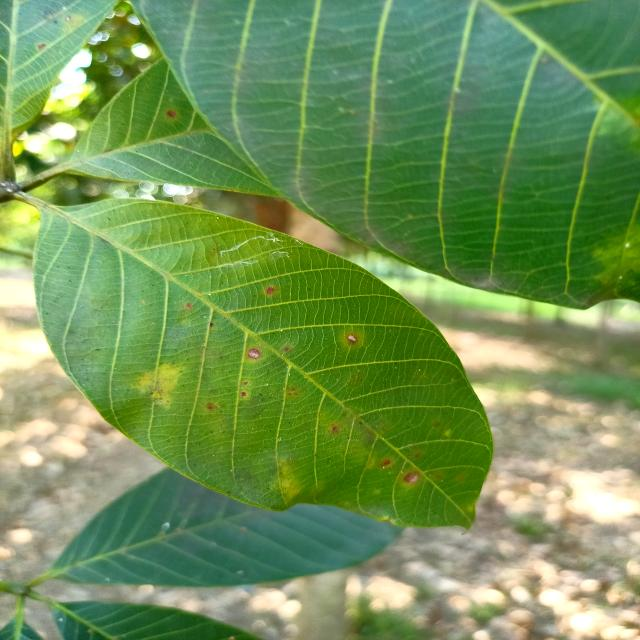Colletotrichum: (248, 349, 260, 359), (348, 334, 358, 343)
